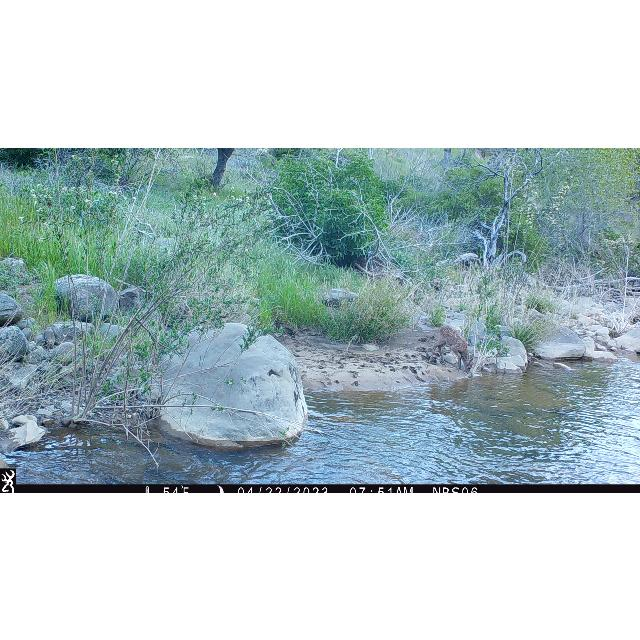animals: (427, 324, 475, 374)
